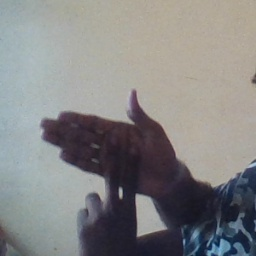N: (36, 87, 175, 233)
